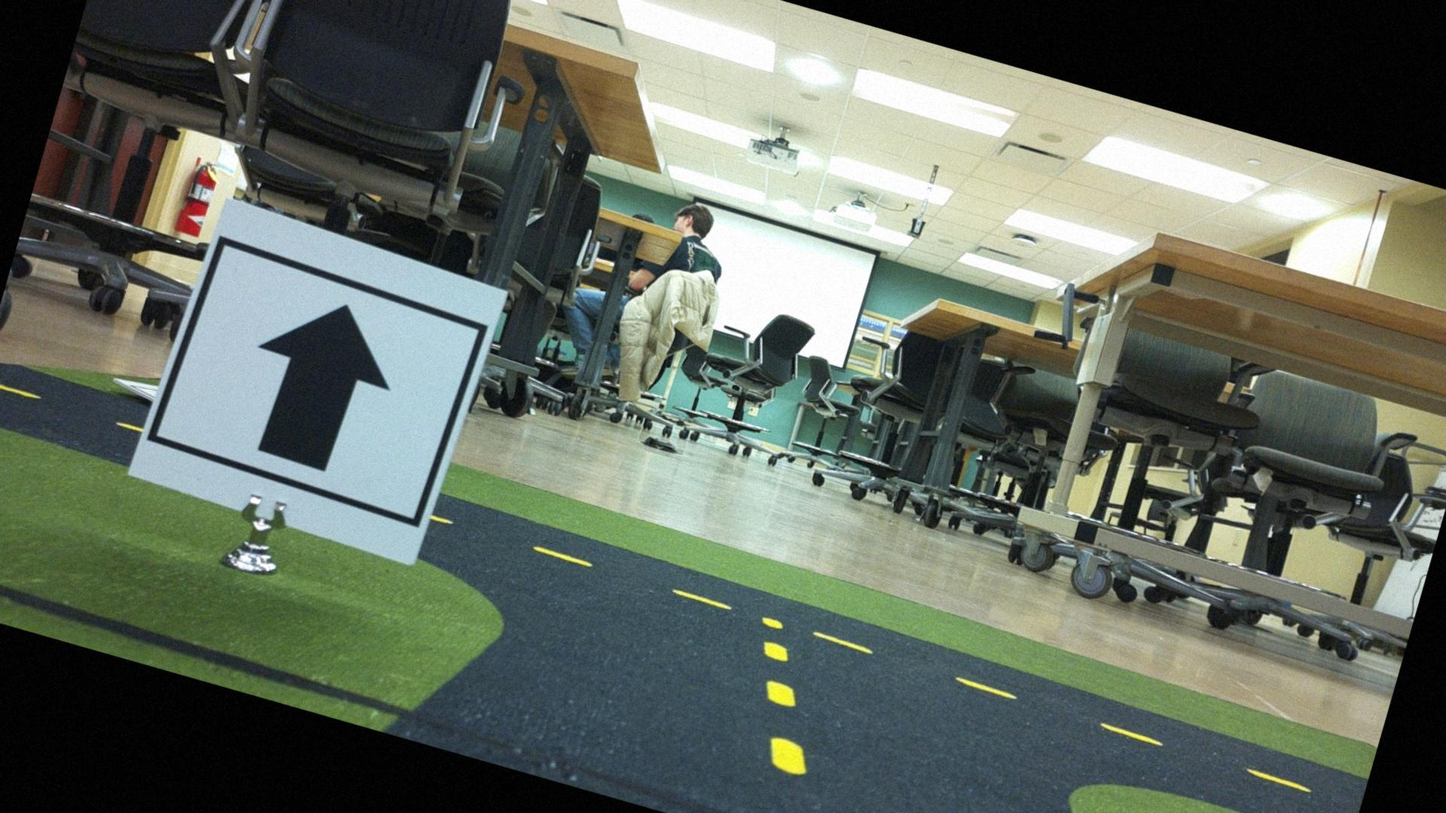gostraight: (146, 208, 495, 554)
yellowline: (429, 513, 1310, 790), (706, 615, 869, 812)
